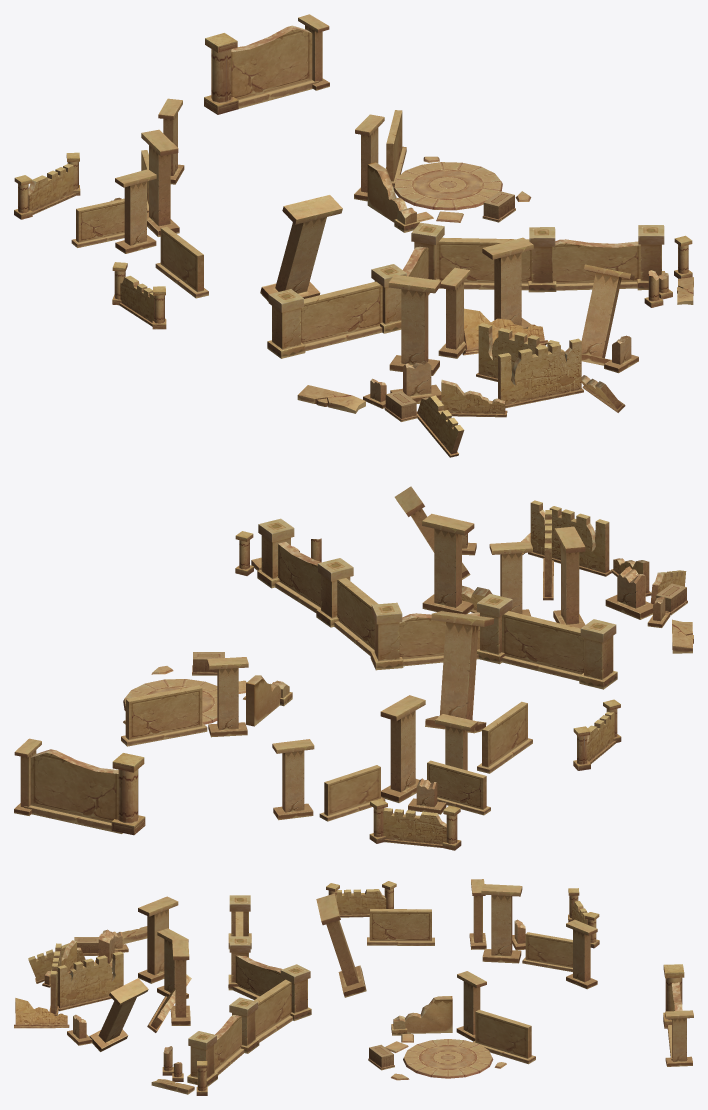
Rendered from qiangmian_06.fbx.
3 views of the same model, one above another, from view 1: azimuth 30°, elevation 25°; view 2: azimuth 150°, elevation 25°; view 3: azimuth 270°, elevation 25° (orthographic). The views are drawn at different scales.
Visible parts, largest first — view 1: qiangmian_06; view 2: qiangmian_06; view 3: qiangmian_06.
Part boxes in pixels (x1=…): qiangmian_06: x1=14, y1=14, x2=693, y2=457; qiangmian_06: x1=14, y1=486, x2=693, y2=850; qiangmian_06: x1=14, y1=879, x2=693, y2=1095.
Bounding box in the file's own units: 5328 × 1259 × 8289.
Materials: 1 (1 with a texture image).
